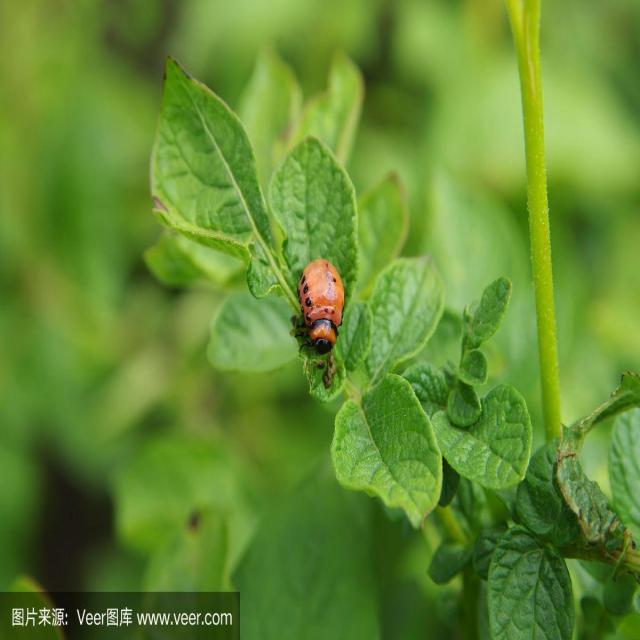ShuCaiHuaBanChong-Larva-: (285, 252, 356, 362)
